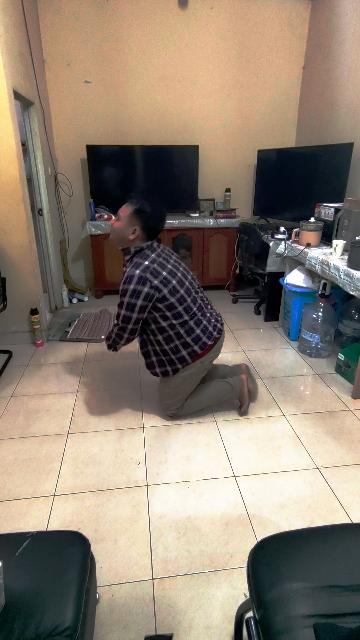jatuh: (104, 191, 256, 425)
